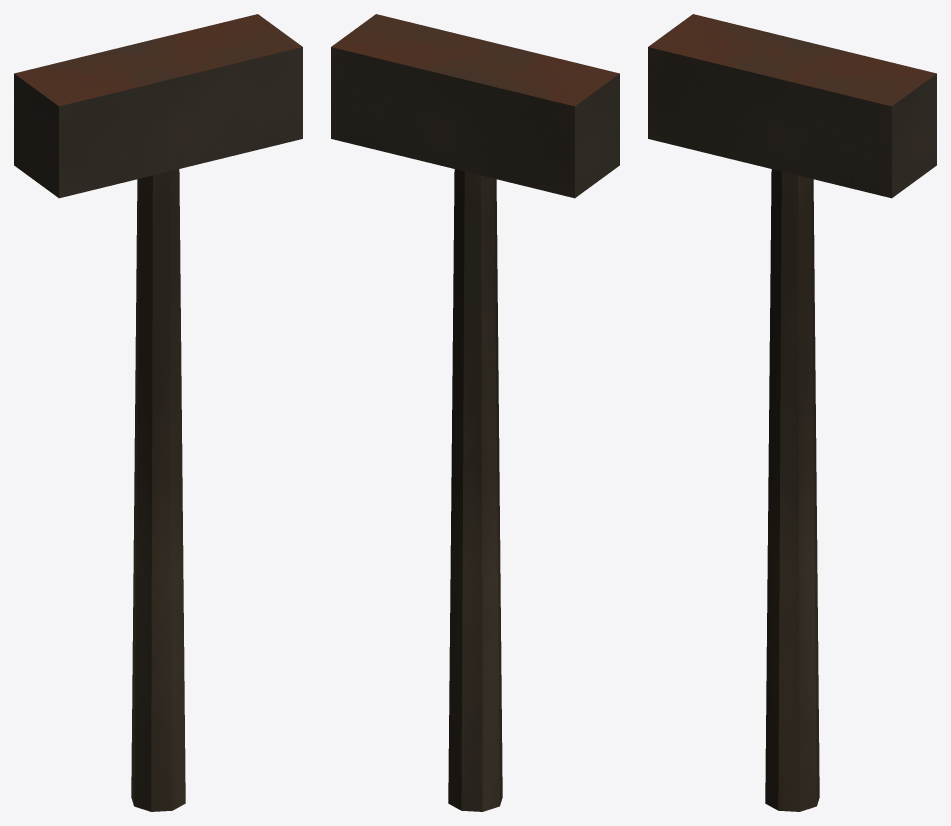
Rendered from WorkHammer.glb.
3 views of the same model, side by side, from view 1: azimuth 30°, elevation 25°; view 2: azimuth 150°, elevation 25°; view 3: azimuth 330°, elevation 25° (orthographic).
Parts seen in each view (by area): view 1: WorkHammer; view 2: WorkHammer; view 3: WorkHammer.
Part boxes in pixels (x1=…): WorkHammer: x1=14, y1=14, x2=302, y2=811; WorkHammer: x1=331, y1=14, x2=619, y2=811; WorkHammer: x1=648, y1=14, x2=936, y2=811.
Bounding box in the file's own units: 0.25 × 0.725 × 0.08.
2 materials, 2 textured.
